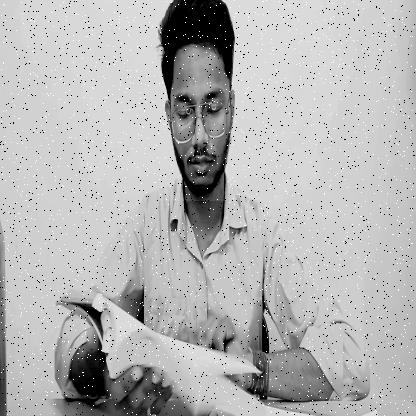Normal: (159, 4, 240, 202)
